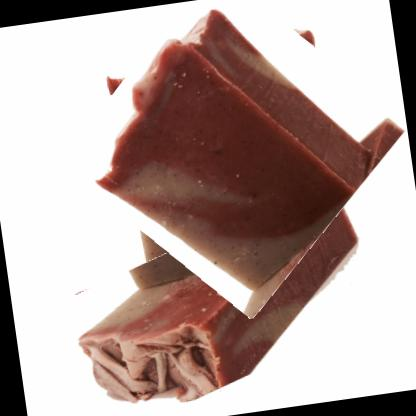soap: (63, 0, 406, 314), (43, 188, 404, 415)
